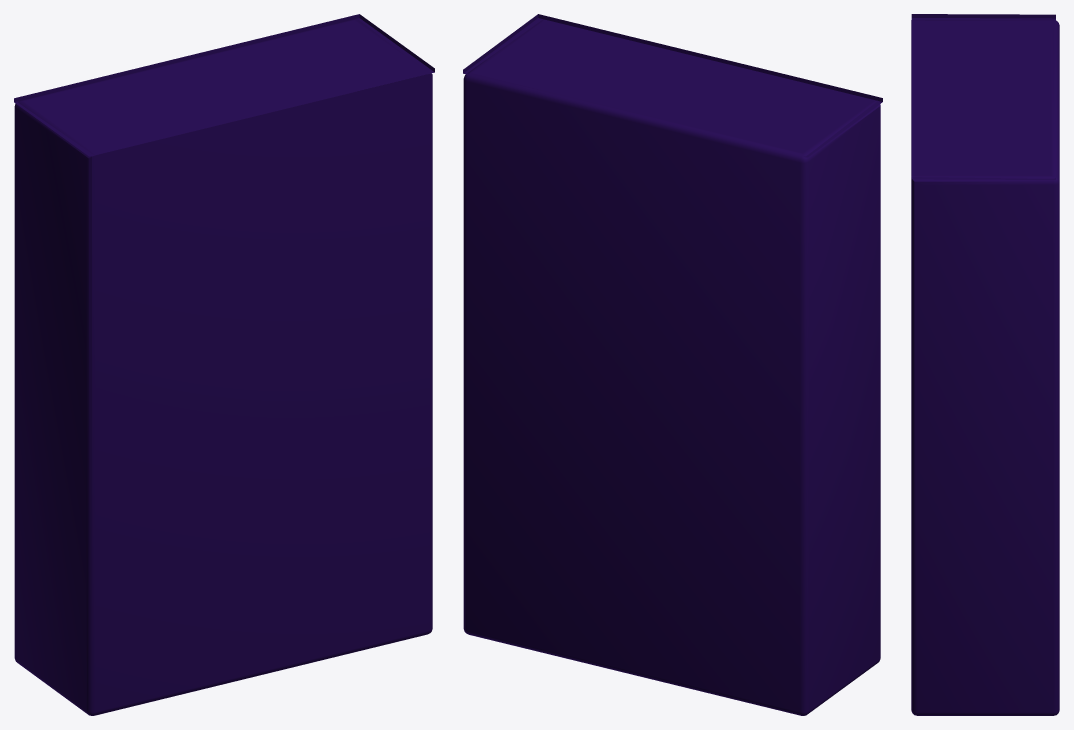
The picture shows the model from 3 angles, left to right: view 1: azimuth 30°, elevation 25°; view 2: azimuth 150°, elevation 25°; view 3: azimuth 270°, elevation 25°; orthographic projection. The views are drawn at different scales.
Visible parts, largest first — view 1: RV_Box_Body, Lid; view 2: RV_Box_Body, Lid; view 3: RV_Box_Body, Lid.
Boxes of the visible parts, box(x1,y1,x2,y2) form: RV_Box_Body: box(14, 19, 432, 715); Lid: box(14, 14, 434, 156); RV_Box_Body: box(463, 19, 880, 715); Lid: box(463, 14, 882, 157); RV_Box_Body: box(911, 19, 1059, 715); Lid: box(911, 14, 1055, 179).
Bounding box in the file's own units: 0.09 × 0.141 × 0.035.
